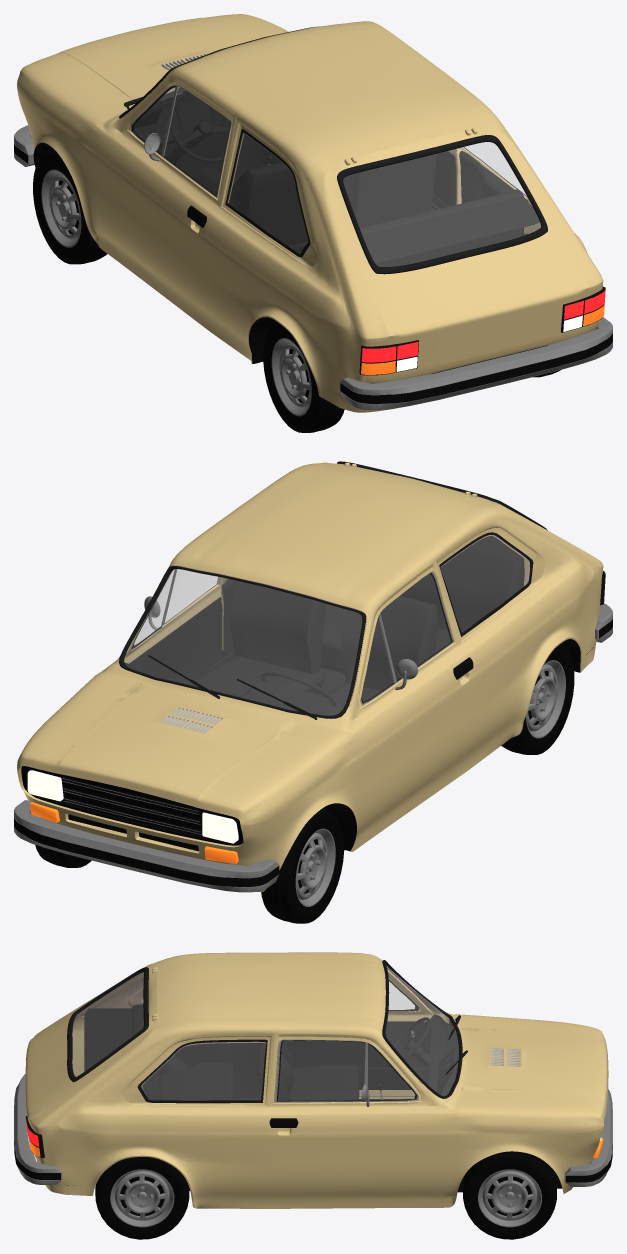
Rendered from fiat_147.glb.
The picture shows the model from 3 angles, top to bottom: view 1: azimuth 30°, elevation 25°; view 2: azimuth 150°, elevation 25°; view 3: azimuth 270°, elevation 25°; orthographic projection. The views are drawn at different scales.
Parts seen in each view (by area): view 1: Plano.011_15, Cubo.010_26, Plano.001_16, Plano.006_5, Plano.007_6, Cilindro.002_9, Cubo.001_3, Plano.008_10, Plano.010_12, Plano_4, Plano.013_17, Cubo.007_18 (+2 smaller); view 2: Plano.011_15, Plano.007_6, Plano.009_11, Cubo.010_26, Plano.006_5, Cilindro.002_9, Cubo.001_3, Plano.010_12, Plano.004_1, Plano.008_10, Plano.003_0, Cubo.007_18 (+5 smaller); view 3: Plano.011_15, Plano.006_5, Plano.007_6, Cubo.010_26, Plano.010_12, Cilindro.006_29, Cilindro.002_9, Plano.008_10, Plano.009_11, Plano.015_27, Plano.001_16, Cubo.001_3 (+4 smaller).
Part boxes in pixels (box(x1,y1,x2,y2)): Plano.011_15: box(17, 21, 603, 412); Cubo.010_26: box(229, 153, 539, 267); Plano.001_16: box(329, 128, 588, 340); Plano.006_5: box(100, 75, 467, 311); Plano.007_6: box(17, 14, 288, 144); Cilindro.002_9: box(33, 150, 560, 432); Cubo.001_3: box(14, 92, 612, 410); Plano.008_10: box(228, 133, 526, 253); Plano.010_12: box(134, 87, 230, 194); Plano_4: box(359, 286, 605, 375); Plano.013_17: box(157, 94, 340, 395); Cubo.007_18: box(134, 93, 230, 147); Plano.011_15: box(17, 461, 603, 892); Plano.007_6: box(17, 674, 350, 825); Plano.009_11: box(124, 569, 361, 715); Cubo.010_26: box(193, 536, 524, 710); Plano.006_5: box(111, 560, 476, 825); Cilindro.002_9: box(261, 644, 574, 923); Cubo.001_3: box(14, 603, 612, 892); Plano.010_12: box(135, 569, 450, 701); Plano.004_1: box(21, 766, 243, 845); Plano.008_10: box(440, 535, 529, 632); Plano.003_0: box(119, 566, 366, 718); Cubo.007_18: box(124, 662, 340, 715); Plano.011_15: box(28, 952, 603, 1208); Plano.006_5: box(266, 970, 437, 1195); Plano.007_6: box(457, 1014, 608, 1133); Cubo.010_26: box(84, 1004, 359, 1100); Plano.010_12: box(278, 982, 414, 1100); Cilindro.006_29: box(463, 1151, 556, 1239); Cilindro.002_9: box(95, 1157, 189, 1239); Plano.008_10: box(141, 1042, 265, 1100); Plano.009_11: box(386, 966, 458, 1095); Plano.015_27: box(74, 967, 455, 1100); Plano.001_16: box(25, 965, 156, 1122); Cubo.001_3: box(14, 1074, 612, 1186).
Bounding box in the file's own units: 1.55 × 1.36 × 3.55.
